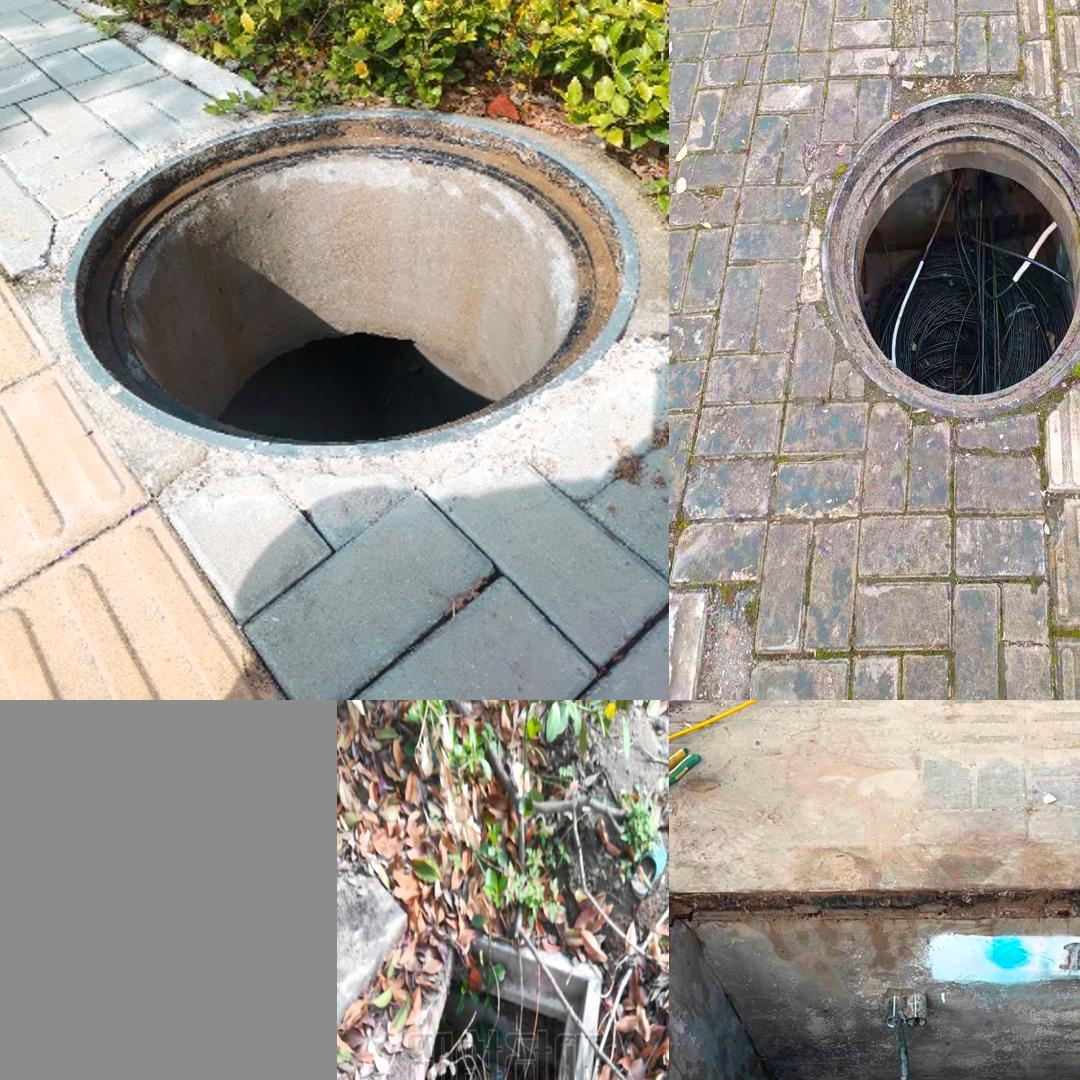lose: (58, 110, 640, 459), (821, 93, 1080, 424), (676, 889, 1080, 1080), (379, 927, 603, 1080)
